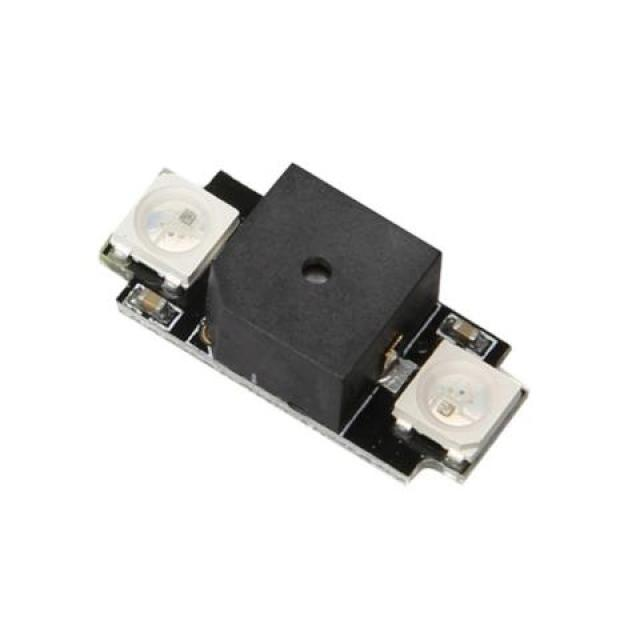LED: (82, 151, 236, 297), (381, 334, 528, 485)
capacitor: (124, 283, 170, 321), (448, 315, 482, 341)
